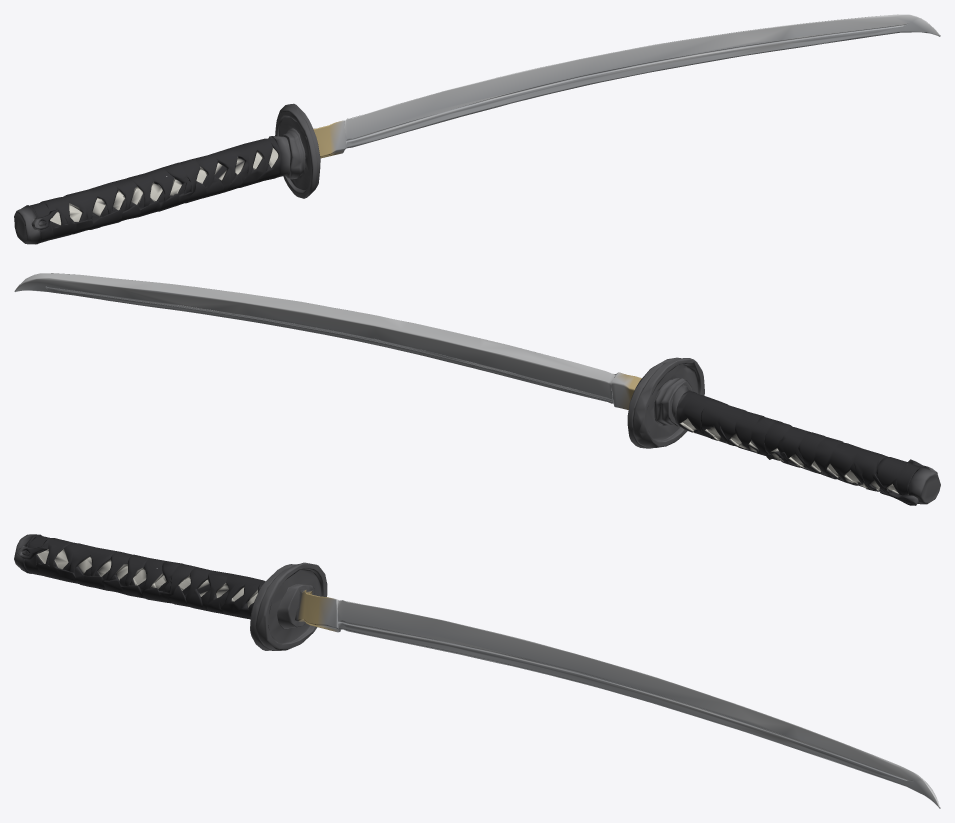
File: katana.glb
3 views of the same model, one above another, from view 1: azimuth 30°, elevation 25°; view 2: azimuth 150°, elevation 25°; view 3: azimuth 330°, elevation 25° (orthographic).
Parts seen in each view (by area): view 1: _MeshInstance3D_61; view 2: _MeshInstance3D_61; view 3: _MeshInstance3D_61.
Boxes of the visible parts, x1,y1,x2,y2 form: _MeshInstance3D_61: (14,14,940,244); _MeshInstance3D_61: (14,273,940,505); _MeshInstance3D_61: (14,534,940,808).
Bounding box in the file's own units: 1.3 × 0.1157 × 0.1358.
